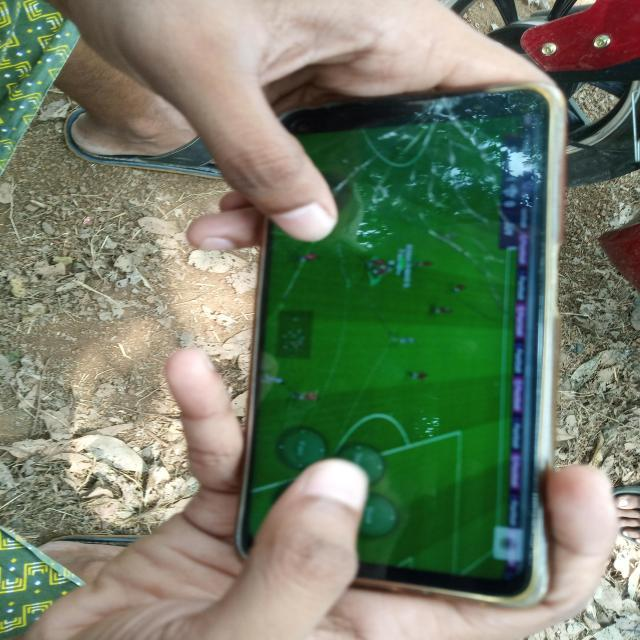phone: (232, 70, 574, 610)
